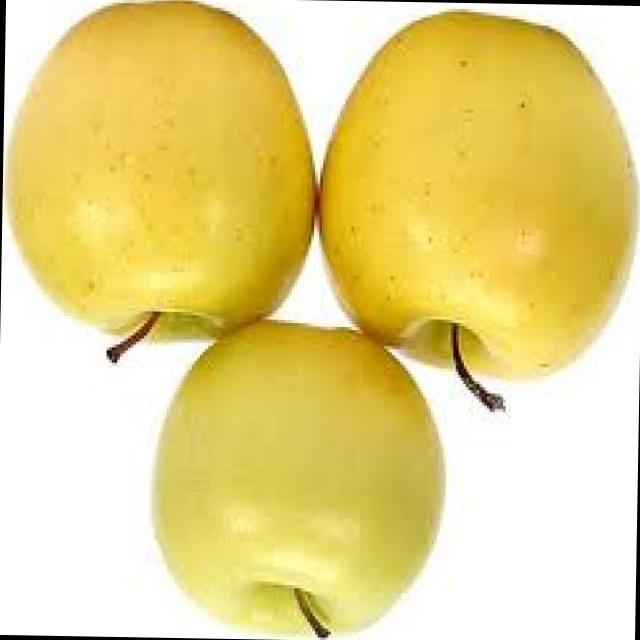Apple: (308, 0, 640, 414), (0, 0, 323, 368), (128, 314, 459, 640)
